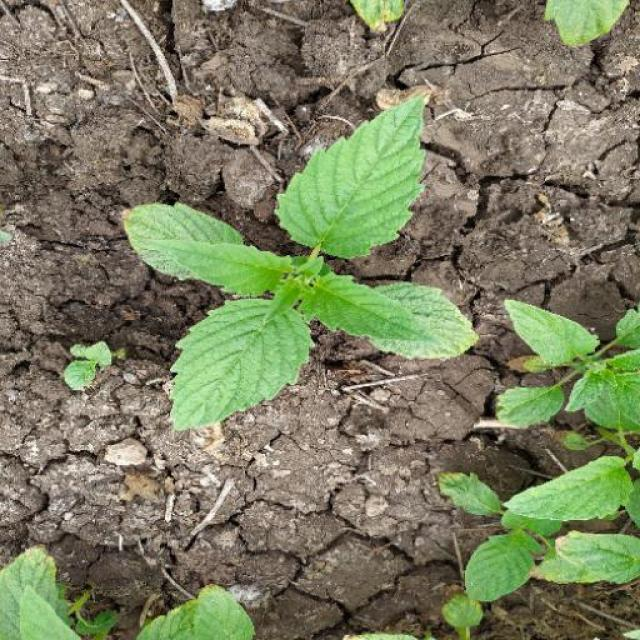crop: (125, 86, 493, 459), (431, 469, 631, 629), (504, 275, 638, 454)
